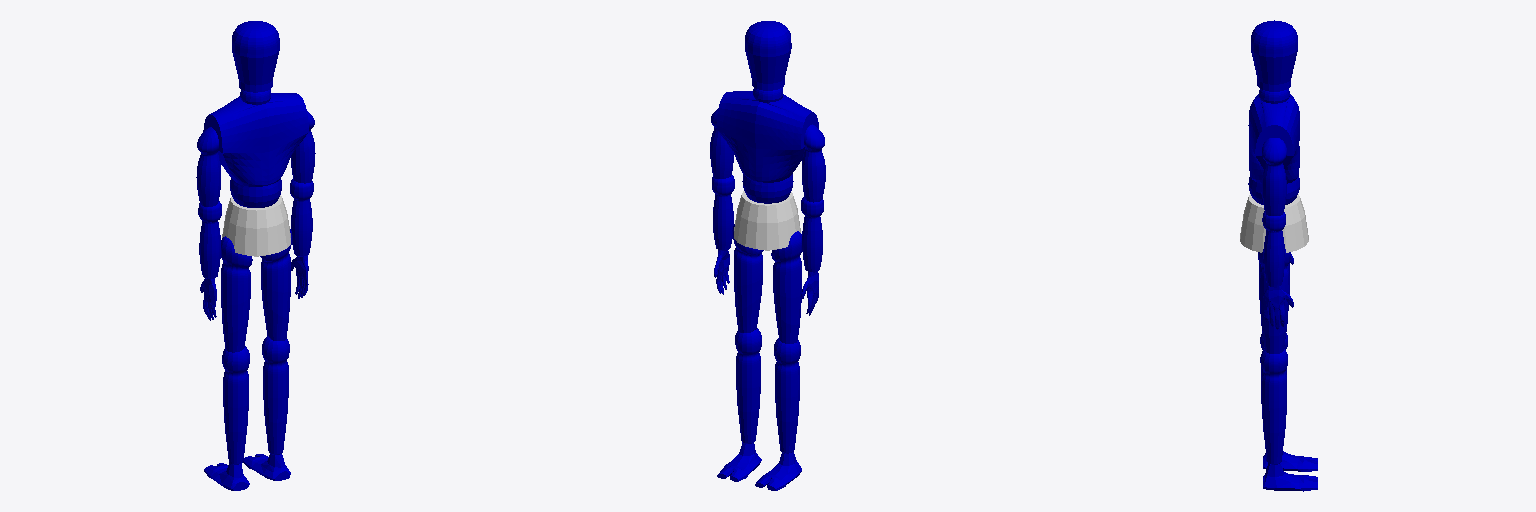
--- Render facts (derived) ---
The picture shows the robot from 3 angles, left to right: view 1: azimuth 30°, elevation 25°; view 2: azimuth 150°, elevation 25°; view 3: azimuth 270°, elevation 25°; orthographic projection.
Robot: human_cio — 54 links, 53 joints (13 revolute, 37 continuous, 3 prismatic); root link root_link; default pose: every joint at zero.
Visible links, largest first — view 1: torso_x_link, head_x_link, pelvis_link, upper_left_leg_x_link, lower_right_leg_link, lower_left_leg_link, upper_right_leg_x_link, upper_left_arm_x_link, lower_right_arm_link, lower_left_arm_link, upper_right_arm_x_link, right_foot_z_link (+1 smaller); view 2: torso_x_link, head_x_link, pelvis_link, upper_left_leg_x_link, lower_right_leg_link, lower_left_leg_link, upper_right_leg_x_link, upper_left_arm_x_link, lower_right_arm_link, lower_left_arm_link, upper_right_arm_x_link, left_foot_z_link (+1 smaller); view 3: torso_x_link, head_x_link, lower_right_leg_link, pelvis_link, upper_right_arm_x_link, lower_right_arm_link, upper_right_leg_x_link, right_foot_z_link, right_hand_x_link, left_foot_z_link.
Link boxes in pixels (x1,y1,x2,y2): torso_x_link: (203,93,308,207); head_x_link: (232,21,279,104); pelvis_link: (222,195,290,256); upper_left_leg_x_link: (221,236,252,352); lower_right_leg_link: (262,337,289,454); lower_left_leg_link: (222,346,249,464); upper_right_leg_x_link: (260,229,291,340); upper_left_arm_x_link: (196,127,220,206); lower_right_arm_link: (290,179,313,256); lower_left_arm_link: (198,201,221,278); upper_right_arm_x_link: (291,111,315,183); right_foot_z_link: (243,454,290,480); torso_x_link: (716,91,818,203); head_x_link: (745,21,791,102); pelvis_link: (734,191,800,250); upper_left_leg_x_link: (771,231,801,343); lower_right_leg_link: (735,328,761,443); lower_left_leg_link: (774,338,800,453); upper_right_leg_x_link: (732,224,763,332); upper_left_arm_x_link: (802,124,825,202); lower_right_arm_link: (712,175,734,250); lower_left_arm_link: (801,197,823,272); upper_right_arm_x_link: (710,109,733,178); left_foot_z_link: (755,452,801,490); torso_x_link: (1248,94,1299,204); head_x_link: (1251,20,1297,103); lower_right_leg_link: (1260,348,1287,464); pelvis_link: (1240,194,1308,252); upper_right_arm_x_link: (1262,138,1286,215); lower_right_arm_link: (1262,211,1285,287); upper_right_leg_x_link: (1258,249,1290,353); right_foot_z_link: (1263,463,1317,491); right_hand_x_link: (1263,285,1293,329); left_foot_z_link: (1263,451,1317,471).
Bounding box of the posed robot: 0.582 × 0.3519 × 2.2 m (x, y, z).
15 mesh visuals loaded from 15 distinct referenced files (15 Collada DAE).

URDF robot description (human_cio):
<?xml version="1.0" ?>
<!-- =================================================================================== -->
<!-- |    This document was autogenerated by xacro from human_cio.urdf.xacro           | -->
<!-- |    EDITING THIS FILE BY HAND IS NOT RECOMMENDED                                 | -->
<!-- =================================================================================== -->
<robot name="human_cio" xmlns:controller="http://playerstage.sourceforge.net/gazebo/xmlschema/#controller" xmlns:interface="http://playerstage.sourceforge.net/gazebo/xmlschema/#interface" xmlns:sensor="http://playerstage.sourceforge.net/gazebo/xmlschema/#sensor" xmlns:xacro="http://playerstage.sourceforge.net/gazebo/xmlschema/#interface">
  <material name="Blue">
    <color rgba="0.0 0.0 0.8 1.0"/>
  </material>
  <material name="Green">
    <color rgba="0.0 0.8 0.0 1.0"/>
  </material>
  <material name="Grey">
    <color rgba="0.7 0.7 0.7 1.0"/>
  </material>
  <material name="Grey2">
    <color rgba="0.9 0.9 0.9 1.0"/>
  </material>
  <material name="Red">
    <color rgba="0.8 0.0 0.0 1.0"/>
  </material>
  <material name="White">
    <color rgba="1.0 1.0 1.0 1.0"/>
  </material>
  <material name="Black">
    <color rgba="0.1 0.1 0.1 1.0"/>
  </material>
  <material name="LightGrey">
    <color rgba="0.6 0.6 0.6 1.0"/>
  </material>
  <link name="root_link"/>
  <link name="base_prismatic_dummy1">
    <visual>
      <origin rpy="0 0 0" xyz="0 0 0"/>
      <geometry>
        <box size="0.001 0.001 0.001"/>
      </geometry>
      <material name="Blue"/>
    </visual>
  </link>
  <link name="base_prismatic_dummy2">
    <visual>
      <origin rpy="0 0 0" xyz="0 0 0"/>
      <geometry>
        <box size="0.001 0.001 0.001"/>
      </geometry>
      <material name="Blue"/>
    </visual>
  </link>
  <link name="base_prismatic_dummy3">
    <visual>
      <origin rpy="0 0 0" xyz="0 0 0"/>
      <geometry>
        <box size="0.001 0.001 0.001"/>
      </geometry>
      <material name="Blue"/>
    </visual>
  </link>
  <link name="base_revolute_dummy1">
    <visual>
      <origin rpy="0 0 0" xyz="0 0 0"/>
      <geometry>
        <box size="0.001 0.001 0.001"/>
      </geometry>
      <material name="Blue"/>
    </visual>
  </link>
  <link name="base_revolute_dummy2">
    <visual>
      <origin rpy="0 0 0" xyz="0 0 0"/>
      <geometry>
        <box size="0.001 0.001 0.001"/>
      </geometry>
      <material name="Blue"/>
    </visual>
  </link>
  <joint name="base_prismatic_joint_x" type="prismatic">
    <axis xyz="1 0 0"/>
    <limit effort="10000" lower="-25.0" upper="25.0" velocity="0.6"/>
    <safety_controller k_position="100" k_velocity="2000000" soft_lower_limit="-24.9" soft_upper_limit="24.9"/>
    <calibration falling="0.00536"/>
    <dynamics damping="20000.0"/>
    <origin rpy="0 0 0" xyz="0 0 1.12"/>
    <parent link="root_link"/>
    <child link="base_prismatic_dummy1"/>
  </joint>
  <joint name="base_prismatic_joint_y" type="prismatic">
    <axis xyz="0 1 0"/>
    <limit effort="10000" lower="-25.0" upper="25.0" velocity="0.6"/>
    <safety_controller k_position="100" k_velocity="2000000" soft_lower_limit="-24.9" soft_upper_limit="24.9"/>
    <calibration falling="0.00536"/>
    <dynamics damping="20000.0"/>
    <origin rpy="0 0 0" xyz="0 0 0"/>
    <parent link="base_prismatic_dummy1"/>
    <child link="base_prismatic_dummy2"/>
  </joint>
  <joint name="base_prismatic_joint_z" type="prismatic">
    <axis xyz="0 0 1"/>
    <limit effort="10000" lower="-10.0" upper="10.0" velocity="0.6"/>
    <safety_controller k_position="100" k_velocity="2000000" soft_lower_limit="-10.0" soft_upper_limit="10.0"/>
    <calibration falling="0.00536"/>
    <dynamics damping="20000.0"/>
    <origin rpy="0 0 0" xyz="0 0 0"/>
    <parent link="base_prismatic_dummy2"/>
    <child link="base_prismatic_dummy3"/>
  </joint>
  <joint name="base_revolute_joint_x" type="continuous">
    <axis xyz="1 0 0"/>
    <origin rpy="0 0 0" xyz="0 0 0"/>
    <parent link="base_prismatic_dummy3"/>
    <child link="base_revolute_dummy1"/>
  </joint>
  <joint name="base_revolute_joint_y" type="continuous">
    <axis xyz="0 1 0"/>
    <origin rpy="0 0 0" xyz="0 0 0"/>
    <parent link="base_revolute_dummy1"/>
    <child link="base_revolute_dummy2"/>
  </joint>
  <joint name="base_revolute_joint_z" type="continuous">
    <axis xyz="0 0 1"/>
    <origin rpy="0 0 0" xyz="0 0 0"/>
    <parent link="base_revolute_dummy2"/>
    <child link="pelvis_link"/>
  </joint>
  <link name="pelvis_link">
    <visual>
      <origin rpy="0 0 0" xyz="0 0 0"/>
      <geometry>
        <mesh filename="package://human_description/meshes/pelvis.dae"/>
      </geometry>
      <material name="Grey2"/>
    </visual>
    <collision>
      <origin rpy="0 0 0" xyz="0 0 0"/>
      <geometry>
        <mesh filename="package://human_description/meshes/collision/pelvis.dae"/>
      </geometry>
    </collision>
    <inertial>
      <mass value="24.9873014159"/>
      <inertia ixx="0.219399825" ixy="0.000000009184695" ixz="0.000000062599005" iyy="0.21939959375" iyz="-0.000000006475555" izz="0.22992248625"/>
      <origin xyz="0 -0.00000001 0.0983925"/>
    </inertial>
  </link>
  <joint name="torso_z_joint" type="continuous">
    <axis xyz="0 0 1"/>
    <limit effort="15" lower="-0.7" upper="0.7" velocity="5"/>
    <origin rpy="0 0 0" xyz="0 0 0.26"/>
    <parent link="pelvis_link"/>
    <child link="torso_z_link"/>
  </joint>
  <joint name="torso_y_joint" type="continuous">
    <axis xyz="0 1 0"/>
    <limit effort="15" lower="-0.3" upper="0.3" velocity="5"/>
    <origin rpy="0 0 0" xyz="0 0 0"/>
    <parent link="torso_z_link"/>
    <child link="torso_y_link"/>
  </joint>
  <joint name="torso_x_joint" type="continuous">
    <axis xyz="1 0 0"/>
    <limit effort="15" lower="-1.0" upper="0" velocity="5"/>
    <origin rpy="0 0 0" xyz="0 0 0"/>
    <parent link="torso_y_link"/>
    <child link="torso_x_link"/>
  </joint>
  <link name="torso_z_link"/>
  <link name="torso_y_link"/>
  <link name="torso_x_link">
    <visual>
      <origin rpy="0 0 0" xyz="0 0 0"/>
      <geometry>
        <mesh filename="package://human_description/meshes/torso.dae"/>
      </geometry>
      <material name="Blue"/>
    </visual>
    <collision>
      <origin rpy="0 0 0" xyz="0 0 0"/>
      <geometry>
        <mesh filename="package://human_description/meshes/collision/torso.dae"/>
      </geometry>
    </collision>
    <inertial>
      <mass value="54.1902903318"/>
      <inertia ixx="1.0895931125" ixy="0.000001152997515" ixz="-0.000000460619845" iyy="1.4490895525" iyz="0.000000968452985" izz="0.679463005"/>
      <origin xyz="0 -0.00000025 0.22608234"/>
    </inertial>
  </link>
  <joint name="head_z_joint" type="continuous">
    <axis xyz="0 0 1"/>
    <limit effort="15" lower="-1.2" upper="1.2" velocity="5"/>
    <origin rpy="0 0 0" xyz="0 0 0.45"/>
    <parent link="torso_x_link"/>
    <child link="head_z_link"/>
  </joint>
  <joint name="head_y_joint" type="continuous">
    <axis xyz="0 1 0"/>
    <limit effort="15" lower="-0.8" upper="0.8" velocity="5"/>
    <origin rpy="0 0 0" xyz="0 0 0"/>
    <parent link="head_z_link"/>
    <child link="head_y_link"/>
  </joint>
  <joint name="head_x_joint" type="continuous">
    <axis xyz="1 0 0"/>
    <limit effort="15" lower="-1.57" upper="0.3" velocity="5"/>
    <origin rpy="0 0 0" xyz="0 0 0"/>
    <parent link="head_y_link"/>
    <child link="head_x_link"/>
  </joint>
  <link name="head_z_link"/>
  <link name="head_y_link"/>
  <link name="head_x_link">
    <visual>
      <origin rpy="0 0 0" xyz="0 0 0"/>
      <geometry>
        <mesh filename="package://human_description/meshes/head.dae"/>
      </geometry>
      <material name="Blue"/>
    </visual>
    <collision>
      <origin rpy="0 0 0" xyz="0 0 0"/>
      <geometry>
        <mesh filename="package://human_description/meshes/collision/head.dae"/>
      </geometry>
    </collision>
    <inertial>
      <mass value="16.0164526852"/>
      <inertia ixx="0.194835825625" ixy="-0.00000000913641" ixz="0.00000000531468" iyy="0.194835733125" iyz="-0.000000020301345" izz="0.06426014890625"/>
      <origin xyz="0.0 0.00000001 0.18566523"/>
    </inertial>
  </link>
  <joint name="head_endeffector_joint" type="revolute">
    <axis xyz="0 0 1"/>
    <limit effort="15" lower="-0.001" upper="0.001" velocity="5"/>
    <origin rpy="0 0 0" xyz="0 0 0.3"/>
    <parent link="head_x_link"/>
    <child link="head_endeffector_link"/>
  </joint>
  <link name="head_endeffector_link">
    <visual>
      <origin rpy="0 0 0" xyz="0 0 0"/>
      <geometry>
        <box size="0.001 0.001 0.001"/>
      </geometry>
      <material name="Blue"/>
    </visual>
    <collision>
      <origin rpy="0 0 0" xyz="0 0 0"/>
      <geometry>
        <box size="0.001 0.001 0.001"/>
      </geometry>
    </collision>
  </link>
  <joint name="upper_left_leg_z_joint" type="continuous">
    <axis xyz="0 0 1"/>
    <!--    <limit effort="15" lower="-1.57" upper="1.57" velocity="5"/>-->
    <limit effort="15" lower="-0.1" upper="1.57" velocity="5"/>
    <!--    <limit effort="15" lower="0" upper="0" velocity="5"/>-->
    <origin rpy="0 0 0" xyz="-0.1 0 0"/>
    <parent link="pelvis_link"/>
    <child link="upper_left_leg_z_link"/>
  </joint>
  <joint name="upper_left_leg_y_joint" type="continuous">
    <axis xyz="0 1 0"/>
    <!--    <limit effort="15" lower="-1.57" upper="1.57" velocity="5"/>-->
    <limit effort="15" lower="-0.1" upper="1.57" velocity="5"/>
    <!--    <limit effort="15" lower="0" upper="0" velocity="5"/>-->
    <origin rpy="0 0 0" xyz="0 0 0"/>
    <parent link="upper_left_leg_z_link"/>
    <child link="upper_left_leg_y_link"/>
  </joint>
  <joint name="upper_left_leg_x_joint" type="continuous">
    <axis xyz="1 0 0"/>
    <limit effort="15" lower="-1.2" upper="1.57" velocity="5"/>
    <origin rpy="0 0 0" xyz="0 0 0"/>
    <parent link="upper_left_leg_y_link"/>
    <child link="upper_left_leg_x_link"/>
  </joint>
  <link name="upper_left_leg_z_link"/>
  <link name="upper_left_leg_y_link"/>
  <link name="upper_left_leg_x_link">
    <visual>
      <origin rpy="0 0 0" xyz="0 0 0"/>
      <geometry>
        <mesh filename="package://human_description/meshes/upperLeftLeg.dae"/>
      </geometry>
      <material name="Blue"/>
    </visual>
    <collision>
      <origin rpy="0 0 0" xyz="0 0 0"/>
      <geometry>
        <mesh filename="package://human_description/meshes/collision/upperLeftLeg.dae"/>
      </geometry>
    </collision>
    <inertial>
      <mass value="11.28066677275"/>
      <inertia ixx="0.258606759375" ixy="0.000002463301455" ixz="0.00032211891975" iyy="0.258311314375" iyz="-0.000065609605275" izz="0.021073428046875"/>
      <origin xyz="-0.00364974 -0.00003172 -0.19576731"/>
    </inertial>
  </link>
  <joint name="lower_left_leg_joint" type="continuous">
    <axis xyz="1 0 0"/>
    <limit effort="15" lower="-2.4" upper="0" velocity="5"/>
    <origin rpy="0 0 0" xyz="0 0 -0.5"/>
    <parent link="upper_left_leg_x_link"/>
    <child link="lower_left_leg_link"/>
  </joint>
  <link name="lower_left_leg_link">
    <visual>
      <origin rpy="0 0 0" xyz="0 0 0"/>
      <geometry>
        <mesh filename="package://human_description/meshes/lowerLeftLeg.dae"/>
      </geometry>
      <material name="Blue"/>
    </visual>
    <collision>
      <origin rpy="0 0 0" xyz="0 0 0"/>
      <geometry>
        <mesh filename="package://human_description/meshes/collision/lowerLeftLeg.dae"/>
      </geometry>
    </collision>
    <inertial>
      <mass value="8.394054321"/>
      <inertia ixx="0.1879741409375" ixy="0.000000001719205" ixz="-0.00000000509231" iyy="0.1879741525" iyz="-0.00000001780773" izz="0.01166299402353"/>
      <origin xyz="0.0 -0.00029422 -0.20195734"/>
    </inertial>
  </link>
  <joint name="left_foot_x_joint" type="continuous">
    <axis xyz="1 0 0"/>
    <limit effort="15" lower="-1.57" upper="1.57" velocity="5"/>
    <!--    <limit effort="15" lower="-0.8" upper="0.6" velocity="5"/>-->
    <origin rpy="0 0 0" xyz="0 0 -0.52"/>
    <parent link="lower_left_leg_link"/>
    <child link="left_foot_x_link"/>
  </joint>
  <joint name="left_foot_y_joint" type="continuous">
    <axis xyz="0 1 0"/>
    <limit effort="15" lower="-1.57" upper="1.57" velocity="5"/>
    <!--    <limit effort="15" lower="0" upper="0" velocity="5"/>-->
    <origin rpy="0 0 0" xyz="0 0 0"/>
    <parent link="left_foot_x_link"/>
    <child link="left_foot_y_link"/>
  </joint>
  <joint name="left_foot_z_joint" type="continuous">
    <axis xyz="0 0 1"/>
    <!--    <limit effort="15" lower="-0.2" upper="0.2" velocity="5"/>-->
    <limit effort="15" lower="0" upper="0" velocity="5"/>
    <origin rpy="0 0 0" xyz="0 0 0"/>
    <parent link="left_foot_y_link"/>
    <child link="left_foot_z_link"/>
  </joint>
  <link name="left_foot_x_link"/>
  <link name="left_foot_y_link"/>
  <link name="left_foot_z_link">
    <visual>
      <origin rpy="0 0 0" xyz="0 0 0"/>
      <geometry>
        <mesh filename="package://human_description/meshes/leftFoot.dae"/>
      </geometry>
      <material name="Blue"/>
    </visual>
    <collision>
      <origin rpy="0 0 0" xyz="0 0 0"/>
      <geometry>
        <mesh filename="package://human_description/meshes/collision/leftFoot.dae"/>
      </geometry>
    </collision>
    <inertial>
      <mass value="2.24629475115"/>
      <inertia ixx="0.00997119431636" ixy="-0.00032381616821" ixz="0.00003556416949" iyy="0.00325251065432" iyz="0.00137797584221" izz="0.01040399675772"/>
      <origin xyz="-0.00160579 0.04884521 -0.0783361"/>
    </inertial>
  </link>
  <joint name="left_foot_endeffector_joint" type="revolute">
    <axis xyz="0 0 1"/>
    <limit effort="15" lower="0" upper="0" velocity="5"/>
    <origin rpy="0 0 0" xyz="0 0 -0.1"/>
    <parent link="left_foot_z_link"/>
    <child link="left_foot_endeffector_link"/>
  </joint>
  <link name="left_foot_endeffector_link">
    <visual>
      <origin rpy="0 0 0" xyz="0 0 0"/>
      <geometry>
        <box size="0.001 0.001 0.001"/>
      </geometry>
      <material name="Blue"/>
    </visual>
  </link>
  <joint name="upper_right_leg_z_joint" type="continuous">
    <axis xyz="0 0 1"/>
    <!--    <limit effort="15" lower="-1.57" upper="1.57" velocity="5"/>-->
    <limit effort="15" lower="-1.57" upper="0.1" velocity="5"/>
    <!--    <limit effort="15" lower="0" upper="0" velocity="5"/>-->
    <origin rpy="0 0 0" xyz="0.1 0 0"/>
    <parent link="pelvis_link"/>
    <child link="upper_right_leg_z_link"/>
  </joint>
  <joint name="upper_right_leg_y_joint" type="continuous">
    <axis xyz="0 1 0"/>
    <!--    <limit effort="15" lower="-1.57" upper="1.57" velocity="5"/>-->
    <limit effort="15" lower="-1.57" upper="0.1" velocity="5"/>
    <!--    <limit effort="15" lower="0" upper="0" velocity="5"/>-->
    <origin rpy="0 0 0" xyz="0 0 0"/>
    <parent link="upper_right_leg_z_link"/>
    <child link="upper_right_leg_y_link"/>
  </joint>
  <joint name="upper_right_leg_x_joint" type="continuous">
    <axis xyz="1 0 0"/>
    <limit effort="15" lower="-1.2" upper="1.57" velocity="5"/>
    <origin rpy="0 0 0" xyz="0 0 0"/>
    <parent link="upper_right_leg_y_link"/>
    <child link="upper_right_leg_x_link"/>
  </joint>
  <link name="upper_right_leg_z_link"/>
  <link name="upper_right_leg_y_link"/>
  <link name="upper_right_leg_x_link">
    <visual>
      <origin rpy="0 0 0" xyz="0 0 0"/>
      <geometry>
        <mesh filename="package://human_description/meshes/upperRightLeg.dae"/>
      </geometry>
      <material name="Blue"/>
    </visual>
    <collision>
      <origin rpy="0 0 0" xyz="0 0 0"/>
      <geometry>
        <mesh filename="package://human_description/meshes/collision/upperRightLeg.dae"/>
      </geometry>
    </collision>
    <inertial>
      <mass value="11.28066677275"/>
      <inertia ixx="0.258606759375" ixy="-0.000002463410605" ixz="-0.000322118806715" iyy="0.258311360625" iyz="-0.000065609865015" izz="0.021073428046875"/>
      <origin xyz="0.00364974 -0.00003172 -0.19576731"/>
    </inertial>
  </link>
  <joint name="lower_right_leg_joint" type="continuous">
    <axis xyz="1 0 0"/>
    <limit effort="15" lower="-2.4" upper="0" velocity="5"/>
    <origin rpy="0 0 0" xyz="0 0 -0.5"/>
    <parent link="upper_right_leg_x_link"/>
    <child link="lower_right_leg_link"/>
  </joint>
  <link name="lower_right_leg_link">
    <visual>
      <origin rpy="0 0 0" xyz="0 0 0"/>
      <geometry>
        <mesh filename="package://human_description/meshes/lowerRightLeg.dae"/>
      </geometry>
      <material name="Blue"/>
    </visual>
    <collision>
      <origin rpy="0 0 0" xyz="0 0 0"/>
      <geometry>
        <mesh filename="package://human_description/meshes/collision/lowerRightLeg.dae"/>
      </geometry>
    </collision>
    <inertial>
      <mass value="8.394054321"/>
      <inertia ixx="0.1879741409375" ixy="0.000000001719205" ixz="-0.00000000509231" iyy="0.1879741525" iyz="-0.00000001780773" izz="0.01166299402353"/>
      <origin xyz="0.0 -0.00029422 -0.20195734"/>
    </inertial>
  </link>
  <joint name="right_foot_x_joint" type="continuous">
    <axis xyz="1 0 0"/>
    <limit effort="15" lower="-1.57" upper="1.57" velocity="5"/>
    <!--    <limit effort="15" lower="-0.8" upper="0.6" velocity="5"/>-->
    <origin rpy="0 0 0" xyz="0 0 -0.52"/>
    <parent link="lower_right_leg_link"/>
    <child link="right_foot_x_link"/>
  </joint>
  <joint name="right_foot_y_joint" type="continuous">
    <axis xyz="0 1 0"/>
    <limit effort="15" lower="-1.57" upper="1.57" velocity="5"/>
    <!--    <limit effort="15" lower="0" upper="0" velocity="5"/>-->
    <origin rpy="0 0 0" xyz="0 0 0"/>
    <parent link="right_foot_x_link"/>
    <child link="right_foot_y_link"/>
  </joint>
  <joint name="right_foot_z_joint" type="continuous">
    <axis xyz="0 0 1"/>
    <!--    <limit effort="15" lower="-0.2" upper="0.2" velocity="5"/>-->
    <limit effort="15" lower="0" upper="0" velocity="5"/>
    <origin rpy="0 0 0" xyz="0 0 0"/>
    <parent link="right_foot_y_link"/>
    <child link="right_foot_z_link"/>
  </joint>
  <link name="right_foot_x_link"/>
  <link name="right_foot_y_link"/>
  <link name="right_foot_z_link">
    <visual>
      <origin rpy="0 0 0" xyz="0 0 0"/>
      <geometry>
        <mesh filename="package://human_description/meshes/rightFoot.dae"/>
      </geometry>
      <material name="Blue"/>
    </visual>
    <collision>
      <origin rpy="0 0 0" xyz="0 0 0"/>
      <geometry>
        <mesh filename="package://human_description/meshes/collision/rightFoot.dae"/>
      </geometry>
    </collision>
    <inertial>
      <mass value="2.24629475115"/>
      <inertia ixx="0.00997119287114" ixy="0.00032381614564" ixz="-0.0000355639042" iyy="0.003252511015625" iyz="0.00137797638426" izz="0.01040399675772"/>
      <origin xyz="0.00160579 0.04884521 -0.0783361"/>
    </inertial>
  </link>
  <joint name="right_foot_endeffector_joint" type="revolute">
    <axis xyz="0 0 1"/>
    <limit effort="15" lower="0" upper="0" velocity="5"/>
    <origin rpy="0 0 0" xyz="0 0 -0.1"/>
    <parent link="right_foot_z_link"/>
    <child link="right_foot_endeffector_link"/>
  </joint>
  <link name="right_foot_endeffector_link">
    <visual>
      <origin rpy="0 0 0" xyz="0 0 0"/>
      <geometry>
        <box size="0.001 0.001 0.001"/>
      </geometry>
      <material name="Blue"/>
    </visual>
  </link>
  <joint name="upper_left_arm_z_joint" type="continuous">
    <axis xyz="0 0 1"/>
    <limit effort="15" lower="-0.5" upper="0.5" velocity="5"/>
    <origin rpy="0 0 0" xyz="-0.23 0 0.33"/>
    <parent link="torso_x_link"/>
    <child link="upper_left_arm_z_link"/>
  </joint>
  <joint name="upper_left_arm_y_joint" type="continuous">
    <axis xyz="0 1 0"/>
    <limit effort="15" lower="0.0" upper="3.14" velocity="5"/>
    <origin rpy="0 0 0" xyz="0 0 0"/>
    <parent link="upper_left_arm_z_link"/>
    <child link="upper_left_arm_y_link"/>
  </joint>
  <joint name="upper_left_arm_x_joint" type="continuous">
    <axis xyz="1 0 0"/>
    <limit effort="15" lower="-1.0" upper="3.14" velocity="5"/>
    <origin rpy="0 0 0" xyz="0 0 0"/>
    <parent link="upper_left_arm_y_link"/>
    <child link="upper_left_arm_x_link"/>
  </joint>
  <link name="upper_left_arm_z_link"/>
  <link name="upper_left_arm_y_link"/>
  <link name="upper_left_arm_x_link">
    <visual>
      <origin rpy="0 0 0" xyz="0 0 0"/>
      <geometry>
        <mesh filename="package://human_description/meshes/upperLeftArm.dae"/>
      </geometry>
      <material name="Blue"/>
    </visual>
    <collision>
      <origin rpy="0 0 0" xyz="0 0 0"/>
      <geometry>
        <mesh filename="package://human_description/meshes/collision/upperLeftArm.dae"/>
      </geometry>
    </collision>
    <inertial>
      <mass value="5.0428574576"/>
      <inertia ixx="0.05868383265625" ixy="-0.0000000925777" ixz="-0.00160419461921" iyy="0.05870381265625" iyz="-0.000002301658445" izz="0.006071859706985"/>
      <origin xyz="-0.00338773 -0.00000063 -0.17172602"/>
    </inertial>
  </link>
  <joint name="lower_left_arm_joint" type="continuous">
    <axis xyz="1 0 0"/>
    <limit effort="15" lower="0" upper="3.14" velocity="5"/>
    <origin rpy="0 0 0" xyz="0 0 -0.35"/>
    <parent link="upper_left_arm_x_link"/>
    <child link="lower_left_arm_link"/>
  </joint>
  <link name="lower_left_arm_link">
    <visual>
      <origin rpy="0 0 0" xyz="0 0 0"/>
      <geometry>
        <mesh filename="package://human_description/meshes/lowerLeftArm.dae"/>
      </geometry>
      <material name="Blue"/>
    </visual>
    <collision>
      <origin rpy="0 0 0" xyz="0 0 0"/>
      <geometry>
        <mesh filename="package://human_description/meshes/collision/lowerLeftArm.dae"/>
      </geometry>
    </collision>
    <inertial>
      <mass value="4.1174112191"/>
      <inertia ixx="0.046870596953125" ixy="-0.000000000013135" ixz="0.00000000291116" iyy="0.0468705940625" iyz="-0.00000000721685" izz="0.00412573450193"/>
      <origin xyz="0.0 0.00000002 -0.14231966"/>
    </inertial>
  </link>
  <joint name="left_hand_z_joint" type="continuous">
    <axis xyz="0 0 1"/>
    <limit effort="15" lower="-1.0" upper="1.0" velocity="5"/>
    <origin rpy="0 0 0" xyz="0 0 -0.35"/>
    <parent link="lower_left_arm_link"/>
    <child link="left_hand_z_link"/>
  </joint>
  <joint name="left_hand_y_joint" type="continuous">
    <axis xyz="0 1 0"/>
    <limit effort="15" lower="-1.3" upper="1.5" velocity="5"/>
    <origin rpy="0 0 0" xyz="0 0 0"/>
    <parent link="left_hand_z_link"/>
    <child link="left_hand_y_link"/>
  </joint>
  <joint name="left_hand_x_joint" type="continuous">
    <axis xyz="1 0 0"/>
    <limit effort="15" lower="-0.5" upper="1.4" velocity="5"/>
    <origin rpy="0 0 0" xyz="0 0 0"/>
    <parent link="left_hand_y_link"/>
    <child link="left_hand_x_link"/>
  </joint>
  <link name="left_hand_z_link"/>
  <link name="left_hand_y_link"/>
  <link name="left_hand_x_link">
    <visual>
      <!--      <origin rpy="0 1.57 -1.57" xyz="0 0 0"/>-->
      <origin rpy="0 0 0" xyz="0 0 0"/>
      <geometry>
        <mesh filename="package://human_description/meshes/leftHand.dae"/>
      </geometry>
      <material name="Blue"/>
    </visual>
    <collision>
      <!--      <origin rpy="0 1.57 -1.57" xyz="0 0 0"/>-->
      <origin rpy="0 0 0" xyz="0 0 0"/>
      <geometry>
        <mesh filename="package://human_description/meshes/collision/leftHand.dae"/>
      </geometry>
    </collision>
    <inertial>
      <mass value="0.5669499677"/>
      <inertia ixx="0.00201160057137" ixy="-0.000016142435665" ixz="-0.00000510135428" iyy="0.00161538206057" iyz="0.00004737239241" izz="0.00044905660648"/>
      <origin xyz="-0.00417106 0.0042704 -0.05959476"/>
    </inertial>
  </link>
  <joint name="left_hand_endeffector_joint" type="revolute">
    <axis xyz="0 0 1"/>
    <limit effort="15" lower="-0.001" upper="0.001" velocity="5"/>
    <origin rpy="0 0 0" xyz="0 0 0"/>
    <parent link="left_hand_x_link"/>
    <child link="left_hand_endeffector_link"/>
  </joint>
  <link name="left_hand_endeffector_link">
    <visual>
      <origin rpy="0 0 0" xyz="0 0 0"/>
      <geometry>
        <box size="0.001 0.001 0.001"/>
      </geometry>
      <material name="Blue"/>
    </visual>
    <collision>
      <origin rpy="0 0 0" xyz="0 0 0"/>
      <geometry>
        <box size="0.001 0.001 0.001"/>
      </geometry>
    </collision>
  </link>
  <joint name="upper_right_arm_z_joint" type="continuous">
    <axis xyz="0 0 1"/>
    <limit effort="15" lower="-0.5" upper="0.5" velocity="5"/>
    <origin rpy="0 0 0" xyz="0.23 0 0.33"/>
    <parent link="torso_x_link"/>
    <child link="upper_right_arm_z_link"/>
  </joint>
  <joint name="upper_right_arm_y_joint" type="continuous">
    <axis xyz="0 1 0"/>
    <limit effort="15" lower="-3.14" upper="0.0" velocity="5"/>
    <origin rpy="0 0 0" xyz="0 0 0"/>
    <parent link="upper_right_arm_z_link"/>
    <child link="upper_right_arm_y_link"/>
  </joint>
  <joint name="upper_right_arm_x_joint" type="continuous">
    <axis xyz="1 0 0"/>
    <limit effort="15" lower="-1.0" upper="3.14" velocity="5"/>
    <origin rpy="0 0 0" xyz="0 0 0"/>
    <parent link="upper_right_arm_y_link"/>
    <child link="upper_right_arm_x_link"/>
  </joint>
  <link name="upper_right_arm_z_link"/>
  <link name="upper_right_arm_y_link"/>
  <link name="upper_right_arm_x_link">
    <visual>
      <origin rpy="0 0 0" xyz="0 0 0"/>
      <geometry>
        <mesh filename="package://human_description/meshes/upperRightArm.dae"/>
      </geometry>
      <material name="Blue"/>
    </visual>
    <collision>
      <origin rpy="0 0 0" xyz="0 0 0"/>
      <geometry>
        <mesh filename="package://human_description/meshes/collision/upperRightArm.dae"/>
      </geometry>
    </collision>
    <inertial>
      <mass value="5.0428574576"/>
      <inertia ixx="0.05868383265625" ixy="0.00000009260175" ixz="0.00160419479977" iyy="0.05870381265625" iyz="-0.000002301500825" izz="0.006071859706985"/>
      <origin xyz="0.00338773 -0.00000063 -0.17172602"/>
    </inertial>
  </link>
  <joint name="lower_right_arm_joint" type="continuous">
    <axis xyz="1 0 0"/>
    <limit effort="15" lower="0" upper="3.14" velocity="5"/>
    <origin rpy="0 0 0" xyz="0 0 -0.35"/>
    <parent link="upper_right_arm_x_link"/>
    <child link="lower_right_arm_link"/>
  </joint>
  <link name="lower_right_arm_link">
    <visual>
      <origin rpy="0 0 0" xyz="0 0 0"/>
      <geometry>
        <mesh filename="package://human_description/meshes/lowerRightArm.dae"/>
      </geometry>
      <material name="Blue"/>
    </visual>
    <collision>
      <origin rpy="0 0 0" xyz="0 0 0"/>
      <geometry>
        <mesh filename="package://human_description/meshes/collision/lowerRightArm.dae"/>
      </geometry>
    </collision>
    <inertial>
      <mass value="4.1174112191"/>
      <inertia ixx="0.046870596953125" ixy="-0.000000000013135" ixz="0.00000000291116" iyy="0.0468705940625" iyz="-0.00000000721685" izz="0.00412573450193"/>
      <origin xyz="0.0 0.00000002 -0.14231966"/>
    </inertial>
  </link>
  <joint name="right_hand_z_joint" type="continuous">
    <axis xyz="0 0 1"/>
    <limit effort="15" lower="-1.0" upper="1.0" velocity="5"/>
    <origin rpy="0 0 0" xyz="0 0 -0.35"/>
    <parent link="lower_right_arm_link"/>
    <child link="right_hand_z_link"/>
  </joint>
  <joint name="right_hand_y_joint" type="continuous">
    <axis xyz="0 1 0"/>
    <limit effort="15" lower="-1.5" upper="1.3" velocity="5"/>
    <origin rpy="0 0 0" xyz="0 0 0"/>
    <parent link="right_hand_z_link"/>
    <child link="right_hand_y_link"/>
  </joint>
  <joint name="right_hand_x_joint" type="continuous">
    <axis xyz="1 0 0"/>
    <limit effort="15" lower="-0.5" upper="1.4" velocity="5"/>
    <origin rpy="0 0 0" xyz="0 0 0"/>
    <parent link="right_hand_y_link"/>
    <child link="right_hand_x_link"/>
  </joint>
  <link name="right_hand_z_link"/>
  <link name="right_hand_y_link"/>
  <link name="right_hand_x_link">
    <visual>
      <!--      <origin rpy="0 -1.57 1.57" xyz="0 0 0"/>-->
      <origin rpy="0 0 0" xyz="0 0 0"/>
      <geometry>
        <mesh filename="package://human_description/meshes/rightHand.dae"/>
      </geometry>
      <material name="Blue"/>
    </visual>
    <collision>
      <!--      <origin rpy="0 -1.57 1.57" xyz="0 0 0"/>-->
      <origin rpy="0 0 0" xyz="0 0 0"/>
      <geometry>
        <mesh filename="package://human_description/meshes/collision/rightHand.dae"/>
      </geometry>
    </collision>
    <inertial>
      <mass value="0.5669499677"/>
      <inertia ixx="0.00201160057137" ixy="0.000016142435665" ixz="0.00000510133208" iyy="0.00161538206057" iyz="0.00004737239241" izz="0.00044905660648"/>
      <origin xyz="0.00417106 0.0042704 -0.05959476"/>
    </inertial>
  </link>
  <joint name="right_hand_endeffector_joint" type="revolute">
    <axis xyz="0 0 1"/>
    <limit effort="15" lower="-0.001" upper="0.001" velocity="5"/>
    <origin rpy="0 0 0" xyz="0 0 0"/>
    <parent link="right_hand_x_link"/>
    <child link="right_hand_endeffector_link"/>
  </joint>
  <link name="right_hand_endeffector_link">
    <visual>
      <origin rpy="0 0 0" xyz="0 0 0"/>
      <geometry>
        <box size="0.001 0.001 0.001"/>
      </geometry>
      <material name="Blue"/>
    </visual>
    <collision>
      <origin rpy="0 0 0" xyz="0 0 0"/>
      <geometry>
        <box size="0.001 0.001 0.001"/>
      </geometry>
    </collision>
  </link>
  <!--
  <link name="right_hand_object_link">
    <visual>
      <origin rpy="0 0 0" xyz="0.5 0.065 -1.6"/>
      <geometry>
        <mesh filename="package://move_itomp/meshes/door.dae"/>
      </geometry>
      <material name="Blue"/>
    </visual>
    <collision>
      <origin rpy="0 0 0" xyz="0.5 0.065 -1.6"/>
      <geometry>
        <box size="0.001 0.001 0.001"/>
      </geometry>
    </collision>
  </link>
  <joint name="door_joint" type="fixed">
    <origin rpy="3.141592 0 -1.570796" xyz="0 0 0"/>
    <parent link="right_hand_endeffector_link"/>
    <child link="right_hand_object_link"/>
  </joint>
-->
  <!--
  <link name="right_hand_object_link">
    <visual>
      <origin rpy="0 0 0" xyz="3.1245 -5.3 -1.0819"/>
      <geometry>
        <mesh filename="package://move_itomp/meshes/drawer2.dae"/>
      </geometry>
      <material name="Blue"/>
    </visual>
    <collision>
      <origin rpy="0 0 0" xyz="3.1245 -5.3 -1.0819"/>
      <geometry>
	<mesh filename="package://move_itomp/meshes/drawer2.dae"/>
      </geometry>
    </collision>
  </link>
  <link name="drawer_dummy"/>
  <joint name="drawer_joint" type="fixed">
    <origin rpy="0 -2.468985 0" xyz="0 0 0"/>
    <parent link="drawer_dummy"/>
    <child link="right_hand_object_link"/>
  </joint>
  <joint name="drawer_joint2" type="fixed">
    <origin rpy="0 0 0" xyz="0 0 0"/>
    <parent link="right_hand_endeffector_link"/>
    <child link="drawer_dummy"/>
  </joint>
-->
  <link name="left_foot_cp_1_link">
    <visual>
      <origin rpy="0 0 0" xyz="0 0 0"/>
      <geometry>
        <box size="0.001 0.001 0.001"/>
      </geometry>
      <material name="Blue"/>
    </visual>
    <inertial>
      <mass value="0"/>
      <inertia ixx="1" ixy="0" ixz="0" iyy="1" iyz="0" izz="0"/>
      <origin xyz="0 0 0"/>
    </inertial>
  </link>
  <link name="left_foot_cp_2_link">
    <visual>
      <origin rpy="0 0 0" xyz="0 0 0"/>
      <geometry>
        <box size="0.001 0.001 0.001"/>
      </geometry>
      <material name="Blue"/>
    </visual>
    <inertial>
      <mass value="0"/>
      <inertia ixx="1" ixy="0" ixz="0" iyy="1" iyz="0" izz="0"/>
      <origin xyz="0 0 0"/>
    </inertial>
  </link>
  <link name="left_foot_cp_3_link">
    <visual>
      <origin rpy="0 0 0" xyz="0 0 0"/>
      <geometry>
        <box size="0.001 0.001 0.001"/>
      </geometry>
      <material name="Blue"/>
    </visual>
    <inertial>
      <mass value="0"/>
      <inertia ixx="1" ixy="0" ixz="0" iyy="1" iyz="0" izz="0"/>
      <origin xyz="0 0 0"/>
    </inertial>
  </link>
  <link name="left_foot_cp_4_link">
    <visual>
      <origin rpy="0 0 0" xyz="0 0 0"/>
      <geometry>
        <box size="0.001 0.001 0.001"/>
      </geometry>
      <material name="Blue"/>
    </visual>
    <inertial>
      <mass value="0"/>
      <inertia ixx="1" ixy="0" ixz="0" iyy="1" iyz="0" izz="0"/>
      <origin xyz="0 0 0"/>
    </inertial>
  </link>
  <joint name="left_foot_cp_1_joint" type="revolute">
    <axis xyz="0 0 1"/>
    <limit effort="15" lower="0" upper="0" velocity="5"/>
    <origin rpy="0 0 0" xyz="-0.05 -0.05 -0.1"/>
    <parent link="left_foot_z_link"/>
    <child link="left_foot_cp_1_link"/>
  </joint>
  <joint name="left_foot_cp_2_joint" type="revolute">
    <axis xyz="0 0 1"/>
    <limit effort="15" lower="0" upper="0" velocity="5"/>
    <origin rpy="0 0 0" xyz="0.05 -0.05 -0.1"/>
    <parent link="left_foot_z_link"/>
    <child link="left_foot_cp_2_link"/>
  </joint>
  <joint name="left_foot_cp_3_joint" type="revolute">
    <axis xyz="0 0 1"/>
    <limit effort="15" lower="0" upper="0" velocity="5"/>
    <origin rpy="0 0 0" xyz="0.05 0.2 -0.1"/>
    <parent link="left_foot_z_link"/>
    <child link="left_foot_cp_3_link"/>
  </joint>
  <joint name="left_foot_cp_4_joint" type="revolute">
    <axis xyz="0 0 1"/>
    <limit effort="15" lower="0" upper="0" velocity="5"/>
    <origin rpy="0 0 0" xyz="-0.05 0.2 -0.1"/>
    <parent link="left_foot_z_link"/>
    <child link="left_foot_cp_4_link"/>
  </joint>
  <link name="right_foot_cp_1_link">
    <visual>
      <origin rpy="0 0 0" xyz="0 0 0"/>
      <geometry>
        <box size="0.001 0.001 0.001"/>
      </geometry>
      <material name="Blue"/>
    </visual>
    <inertial>
      <mass value="0"/>
      <inertia ixx="1" ixy="0" ixz="0" iyy="1" iyz="0" izz="0"/>
      <origin xyz="0 0 0"/>
    </inertial>
  </link>
  <link name="right_foot_cp_2_link">
    <visual>
      <origin rpy="0 0 0" xyz="0 0 0"/>
      <geometry>
        <box size="0.001 0.001 0.001"/>
      </geometry>
      <material name="Blue"/>
    </visual>
    <inertial>
      <mass value="0"/>
      <inertia ixx="1" ixy="0" ixz="0" iyy="1" iyz="0" izz="0"/>
      <origin xyz="0 0 0"/>
    </inertial>
  </link>
  <link name="right_foot_cp_3_link">
    <visual>
      <origin rpy="0 0 0" xyz="0 0 0"/>
      <geometry>
        <box size="0.001 0.001 0.001"/>
      </geometry>
      <material name="Blue"/>
    </visual>
    <inertial>
      <mass value="0"/>
      <inertia ixx="1" ixy="0" ixz="0" iyy="1" iyz="0" izz="0"/>
      <origin xyz="0 0 0"/>
    </inertial>
  </link>
  <link name="right_foot_cp_4_link">
    <visual>
      <origin rpy="0 0 0" xyz="0 0 0"/>
      <geometry>
        <box size="0.001 0.001 0.001"/>
      </geometry>
      <material name="Blue"/>
    </visual>
    <inertial>
      <mass value="0"/>
      <inertia ixx="1" ixy="0" ixz="0" iyy="1" iyz="0" izz="0"/>
      <origin xyz="0 0 0"/>
    </inertial>
  </link>
  <joint name="right_foot_cp_1_joint" type="revolute">
    <axis xyz="0 0 1"/>
    <limit effort="15" lower="0" upper="0" velocity="5"/>
    <origin rpy="0 0 0" xyz="-0.05 -0.05 -0.1"/>
    <parent link="right_foot_z_link"/>
    <child link="right_foot_cp_1_link"/>
  </joint>
  <joint name="right_foot_cp_2_joint" type="revolute">
    <axis xyz="0 0 1"/>
    <limit effort="15" lower="0" upper="0" velocity="5"/>
    <origin rpy="0 0 0" xyz="0.05 -0.05 -0.1"/>
    <parent link="right_foot_z_link"/>
    <child link="right_foot_cp_2_link"/>
  </joint>
  <joint name="right_foot_cp_3_joint" type="revolute">
    <axis xyz="0 0 1"/>
    <limit effort="15" lower="0" upper="0" velocity="5"/>
    <origin rpy="0 0 0" xyz="0.05 0.2 -0.1"/>
    <parent link="right_foot_z_link"/>
    <child link="right_foot_cp_3_link"/>
  </joint>
  <joint name="right_foot_cp_4_joint" type="revolute">
    <axis xyz="0 0 1"/>
    <limit effort="15" lower="0" upper="0" velocity="5"/>
    <origin rpy="0 0 0" xyz="-0.05 0.2 -0.1"/>
    <parent link="right_foot_z_link"/>
    <child link="right_foot_cp_4_link"/>
  </joint>
</robot>
